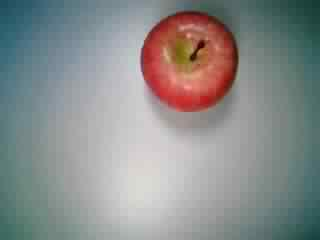apple: (140, 11, 244, 112)
